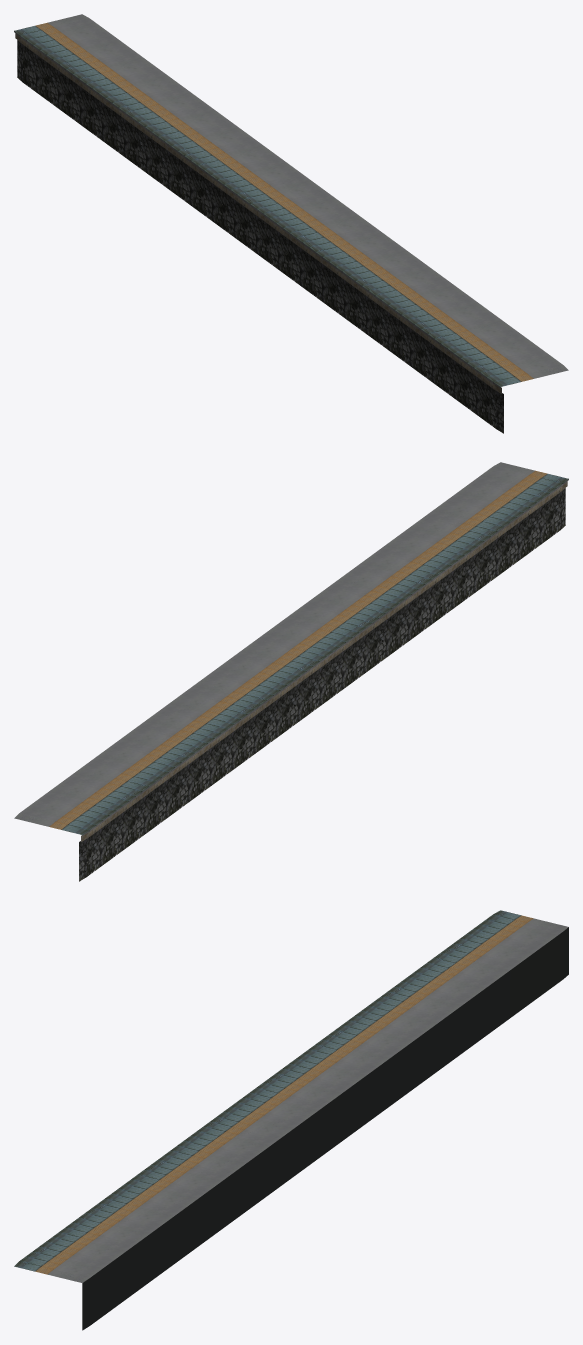
File: AMB_MEI_HOME_S01.glb
3 views of the same model, one above another, from view 1: azimuth 30°, elevation 25°; view 2: azimuth 150°, elevation 25°; view 3: azimuth 330°, elevation 25° (orthographic).
Parts seen in each view (by area): view 1: Mesh2; view 2: Mesh2; view 3: Mesh2.
Part boxes in pixels (x1,y1,x2,y2): Mesh2: (14, 14, 568, 433); Mesh2: (14, 462, 568, 881); Mesh2: (14, 910, 568, 1330).
Size of the model in its own units: 8.55 by 5.59 by 103.
Materials: 7 (7 with a texture image).
